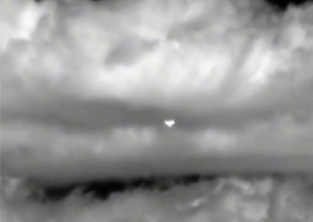Target: (165, 120, 174, 126)
